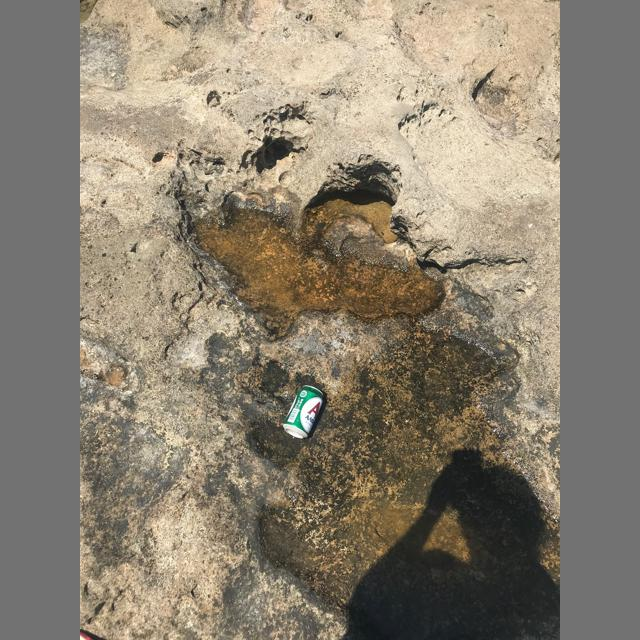litter: (282, 385, 324, 438)
